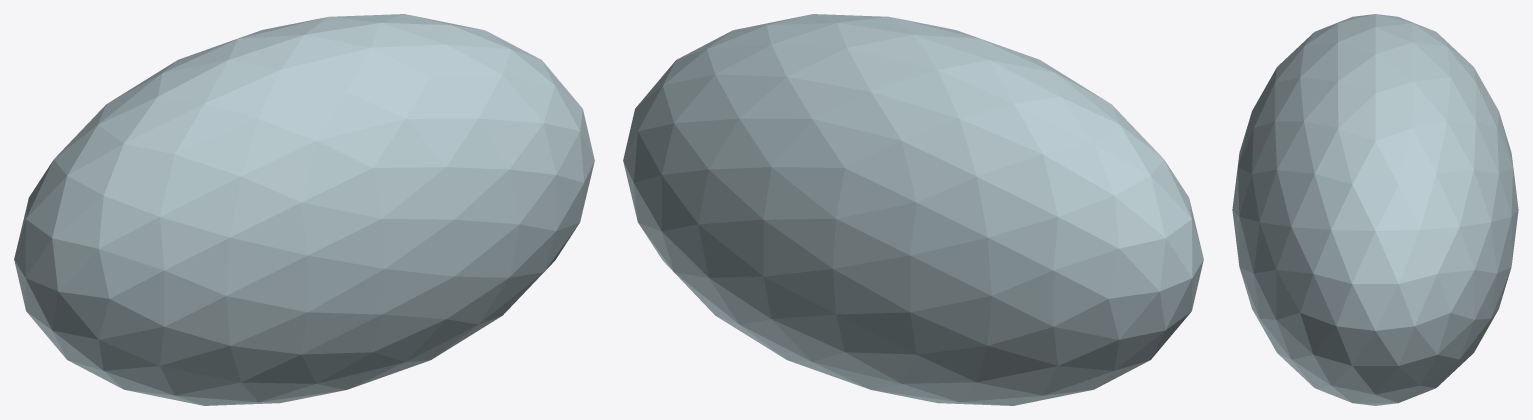
The model's file is cockpit.glb.
3 renders of one model, left to right at view 1: azimuth 30°, elevation 25°; view 2: azimuth 150°, elevation 25°; view 3: azimuth 270°, elevation 25°, orthographic. The views are drawn at different scales.
Parts seen in each view (by area): view 1: world; view 2: world; view 3: world.
Boxes of the visible parts, x1=… form: world: x1=14, y1=14, x2=594, y2=405; world: x1=623, y1=14, x2=1203, y2=405; world: x1=1232, y1=14, x2=1518, y2=405.
Size of the model in its own units: 1.6 by 0.96 by 0.8.
